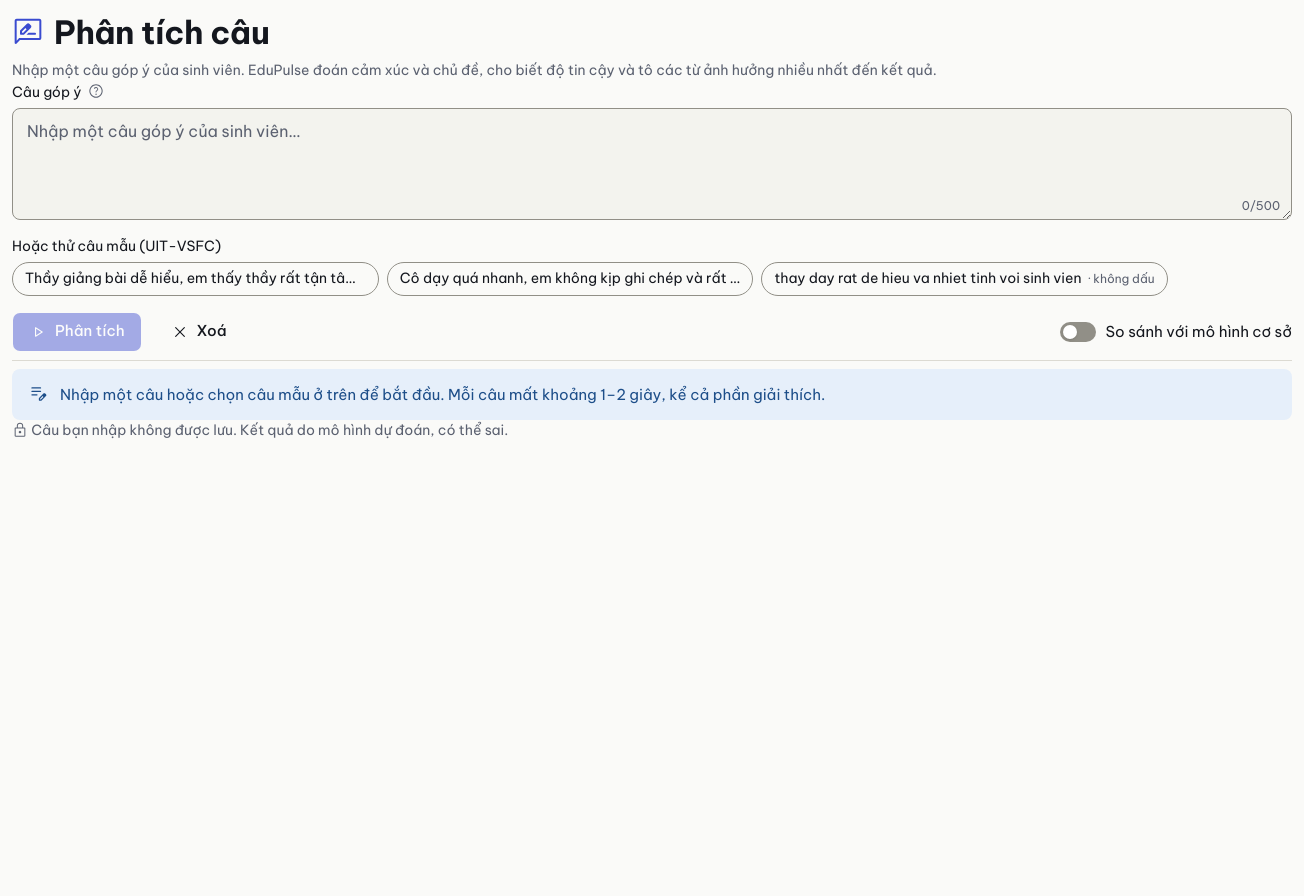
Test: trang Phân tích câu › câu dài hơn giới hạn từ: không gọi /api/explain, báo không tô từ và vẫn hiện kết quả
The width and height of the screenshot is (1304, 896).
Click the text box labelled "Câu góp ý": [652, 164] box [12,108,1292,220]
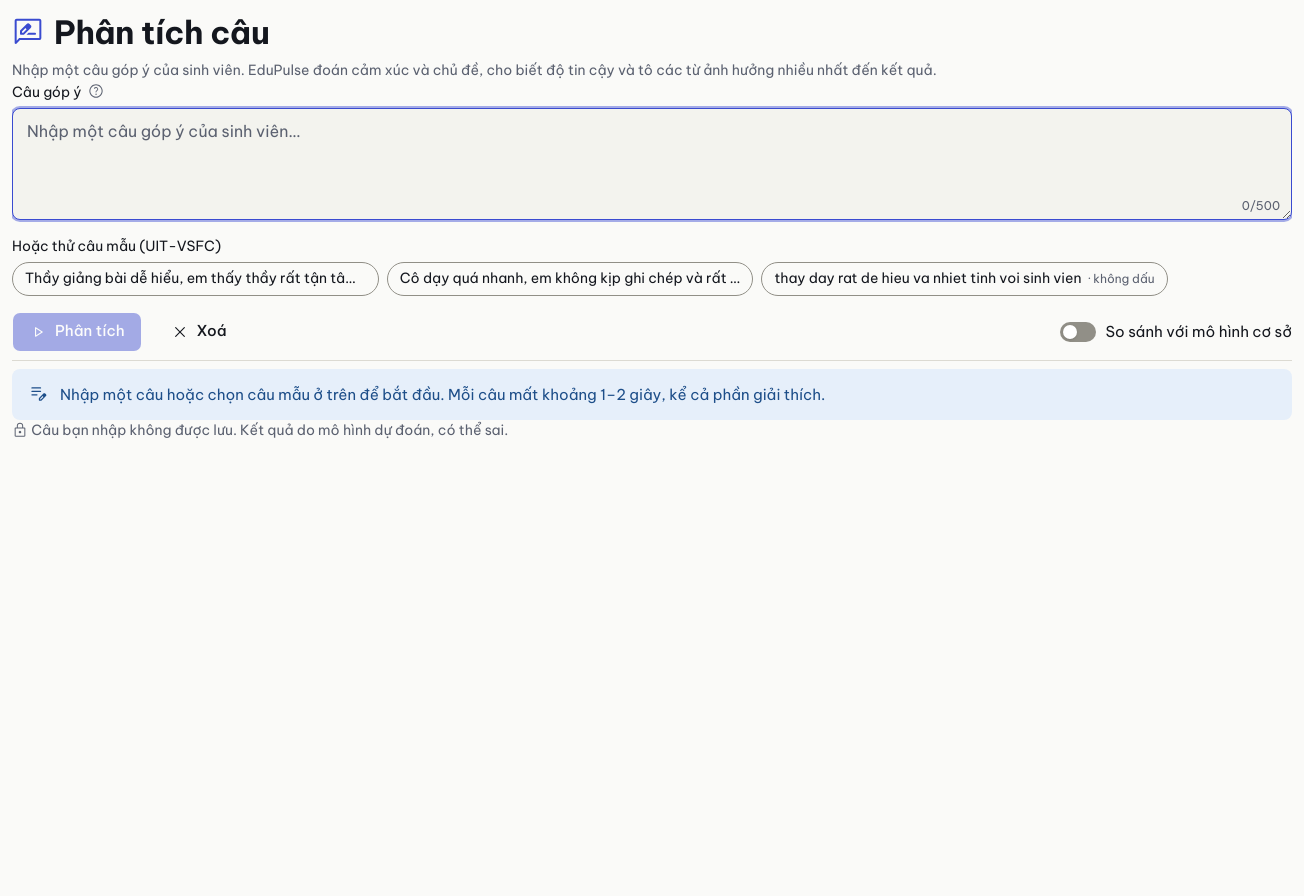
Type keys "Em thấy môn học này có nhiều nội dung quan trọng nhưng thầy trình bày quá nhanh, tài liệu tham khảo không đầy đủ, bài tập về nhà nhiều hơn thời gian em có, các buổi thực hành lại diễn ra vào cuối tuần"
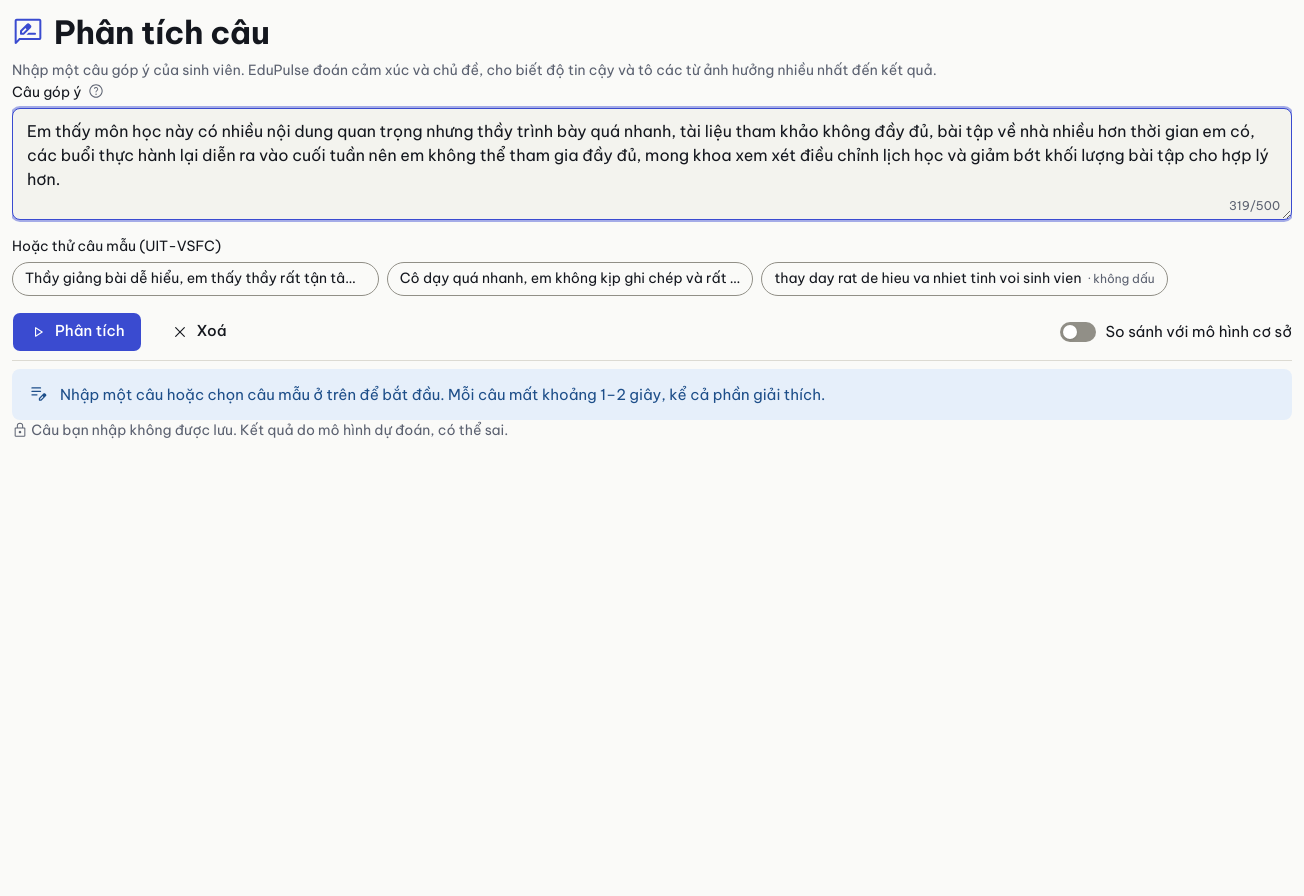
Click the button "Phân tích": [77, 332] box [12,312,142,352]
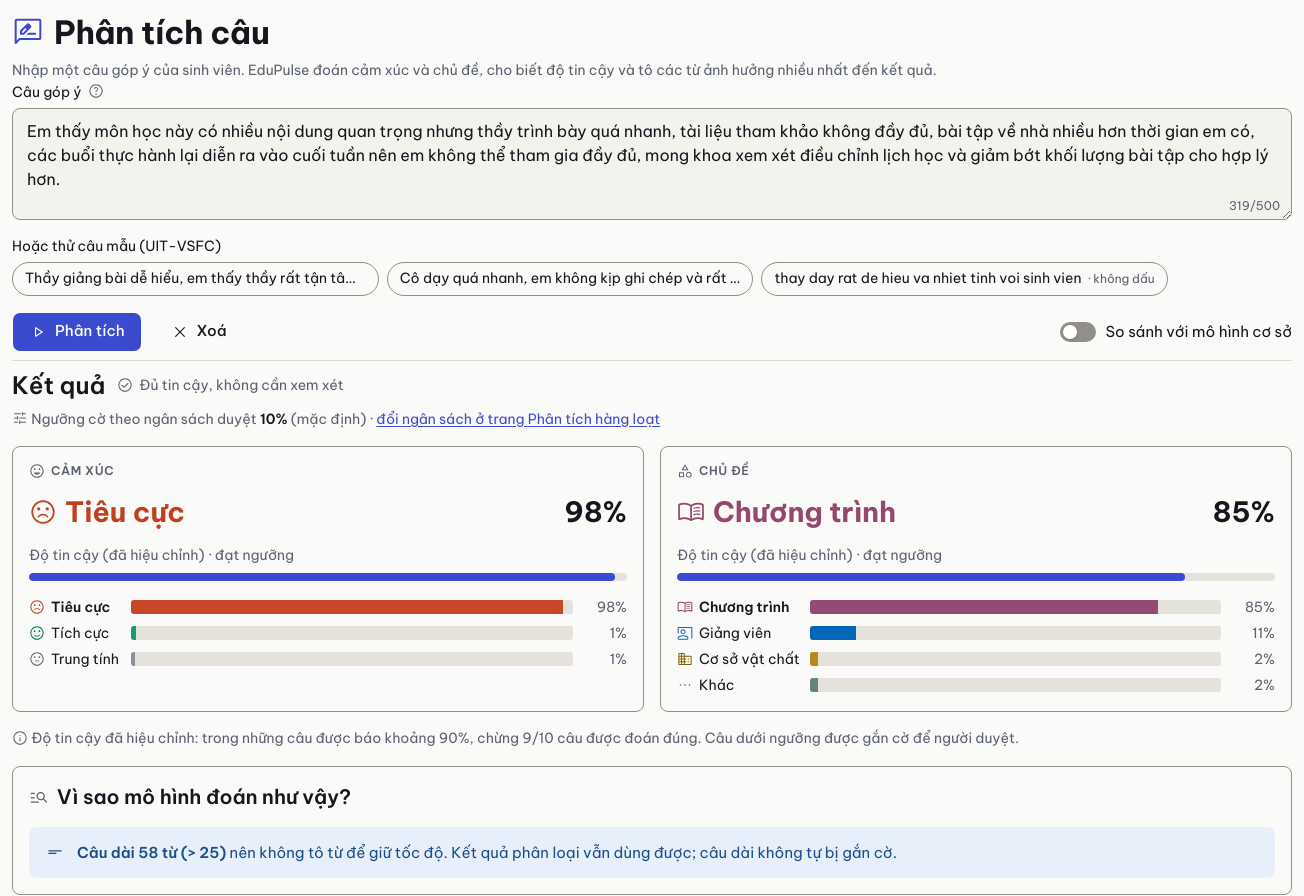
Result: the text "nên không tô từ để giữ tốc độ" is shown at [230,843,897,862]
Result: the heading "Kết quả" is shown at [12,369,105,401]
